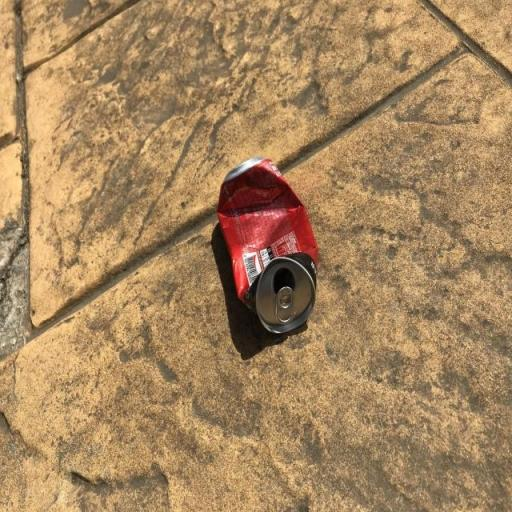metal: (208, 137, 330, 348)
